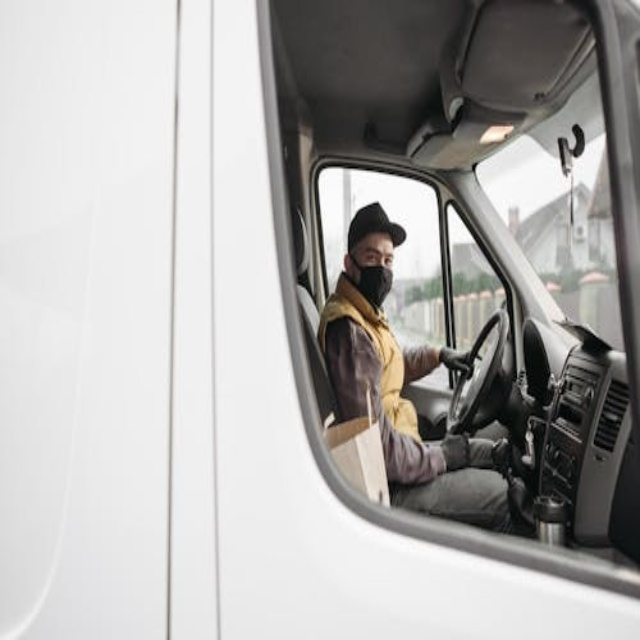Guantes: (435, 423, 468, 473), (439, 341, 474, 379)
Mascara: (352, 258, 393, 308)
Sin_gafas: (356, 247, 397, 267)
